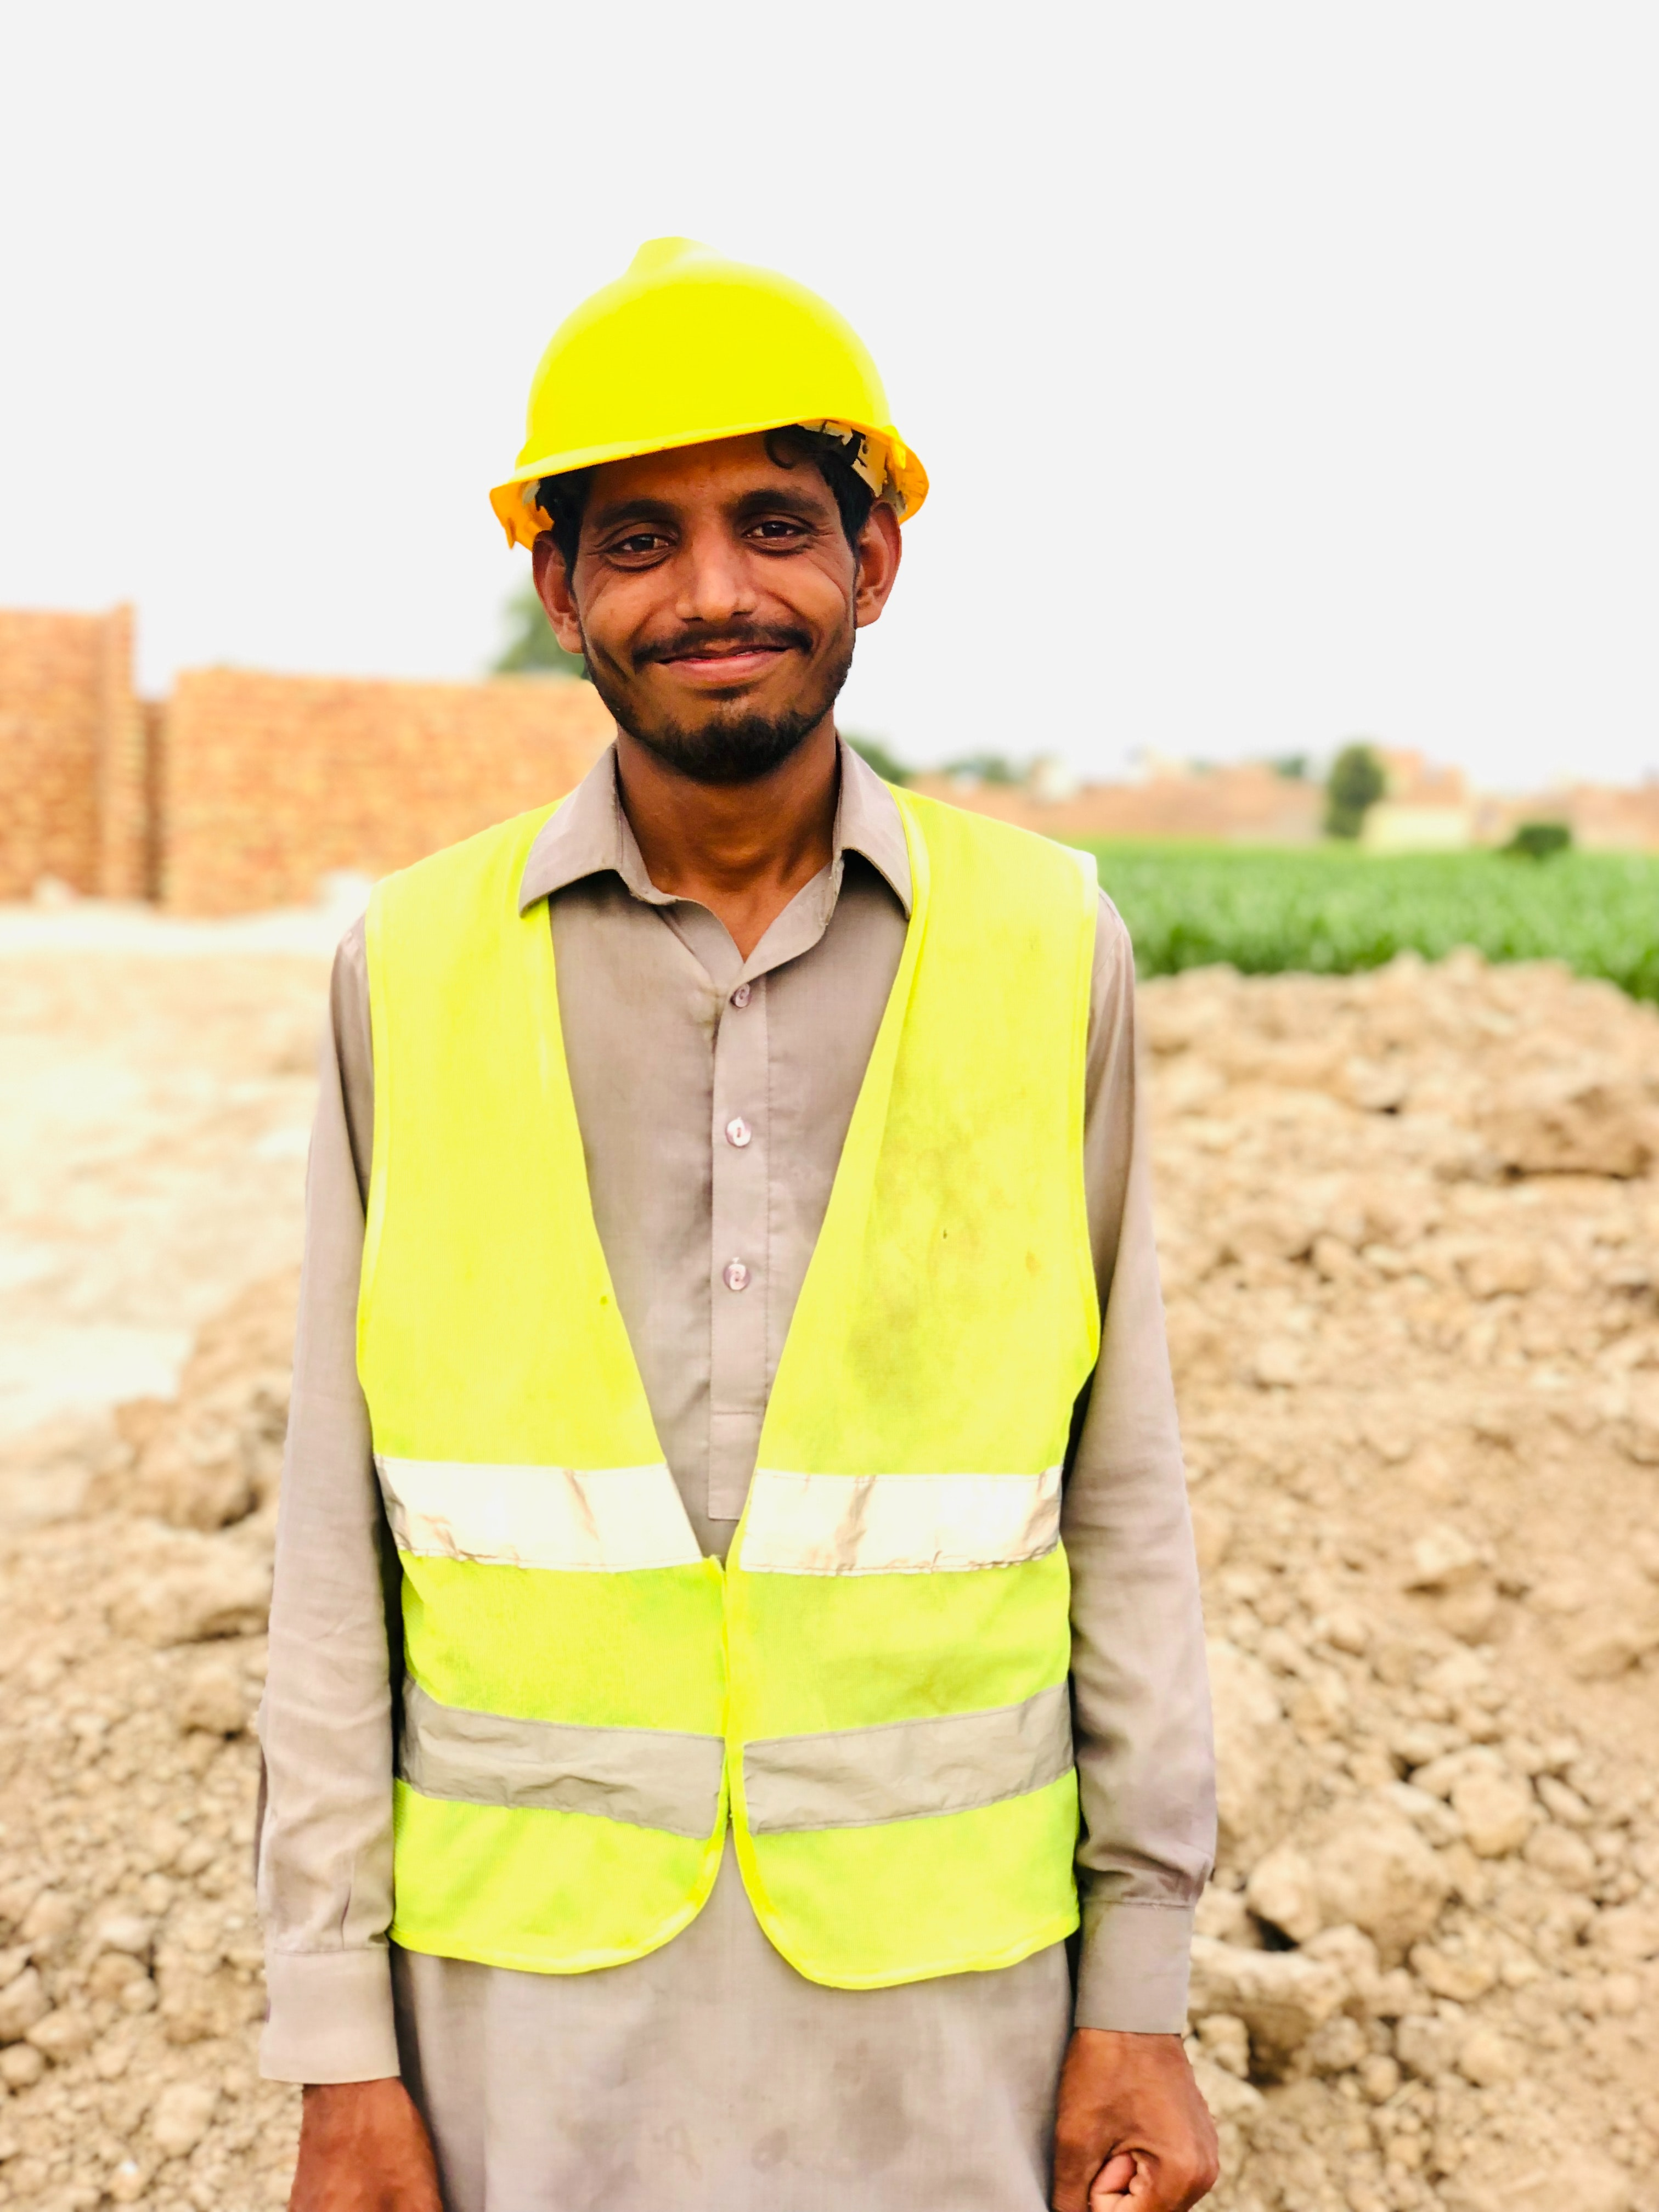Helmet: (477, 225, 962, 812)
Reflective vest: (350, 751, 1101, 2005)
